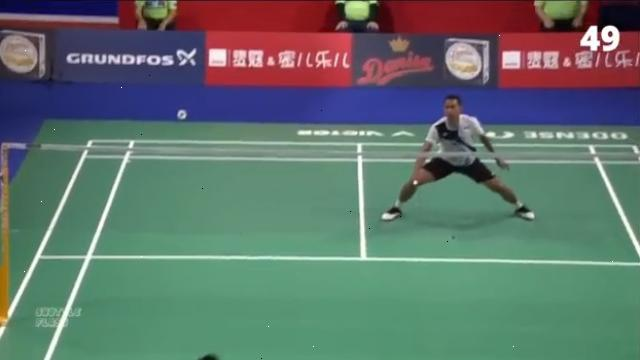Shuttlecock: (173, 108, 190, 124)
